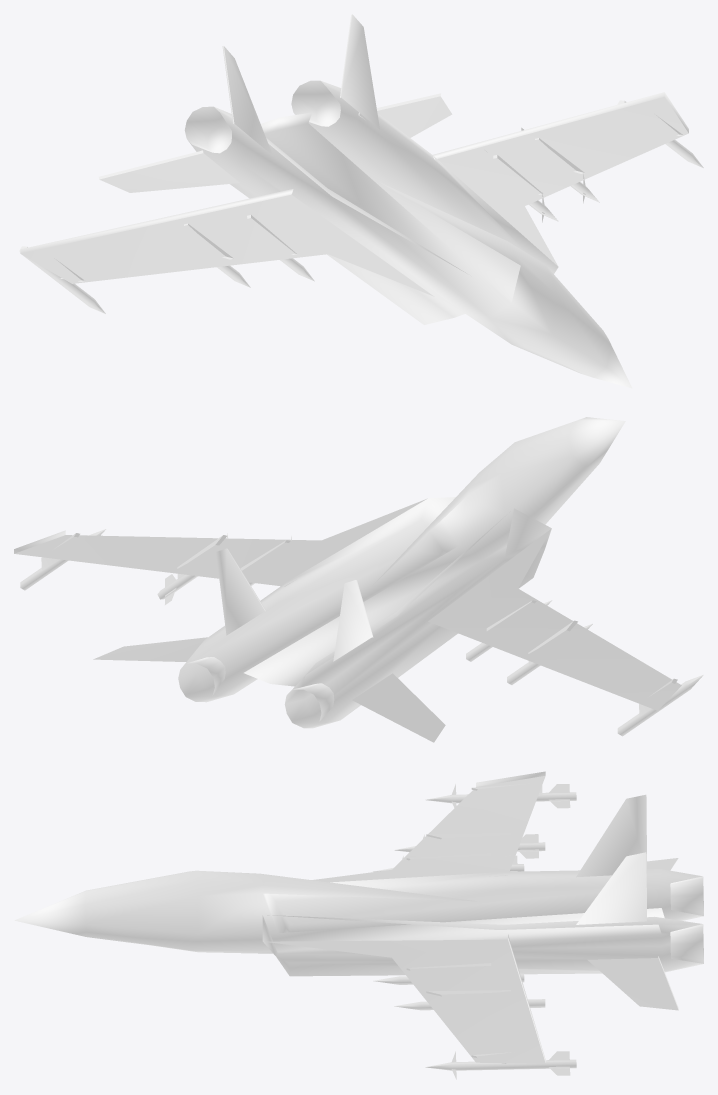
The model's file is ps2_save-icons_airraid3.glb.
3 views of the same model, one above another, from view 1: azimuth 30°, elevation 25°; view 2: azimuth 150°, elevation 25°; view 3: azimuth 270°, elevation 25° (orthographic). The views are drawn at different scales.
Parts seen in each view (by area): view 1: icon.ico; view 2: icon.ico; view 3: icon.ico.
Boxes of the visible parts, x1=… form: icon.ico: x1=19, y1=14, x2=703, y2=388; icon.ico: x1=14, y1=417, x2=703, y2=742; icon.ico: x1=14, y1=771, x2=703, y2=1079.
Bounding box in the file's own units: 4.14 × 0.8584 × 4.19.
1 material, 1 textured.
